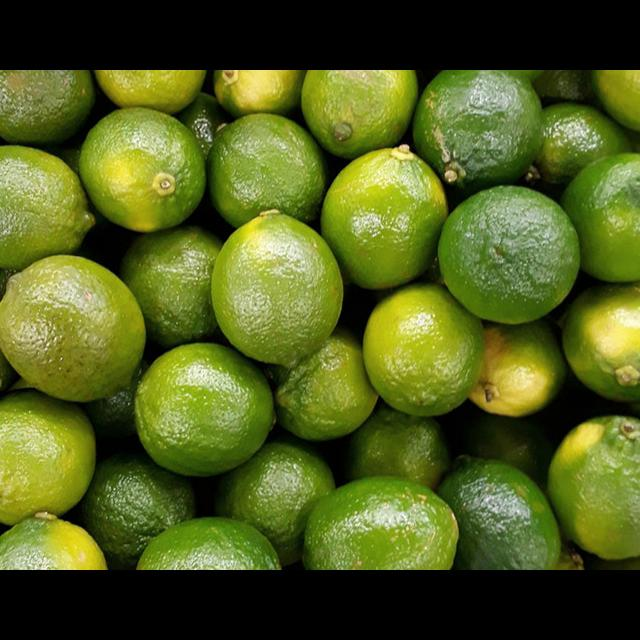lime: (0, 257, 148, 403), (210, 212, 346, 368), (438, 187, 581, 326), (134, 345, 275, 479), (361, 285, 485, 420), (325, 156, 448, 289), (79, 108, 206, 229), (436, 455, 565, 570), (410, 70, 541, 183), (304, 478, 460, 570), (546, 416, 640, 562), (0, 390, 96, 528), (209, 117, 325, 231), (227, 445, 336, 566), (275, 331, 380, 444), (89, 457, 194, 570), (0, 146, 95, 268), (302, 70, 420, 162), (560, 154, 640, 285), (469, 321, 561, 421), (569, 283, 640, 404), (135, 519, 284, 570), (544, 106, 634, 180), (0, 70, 95, 136), (0, 513, 109, 570), (96, 70, 208, 116), (595, 70, 640, 132)
